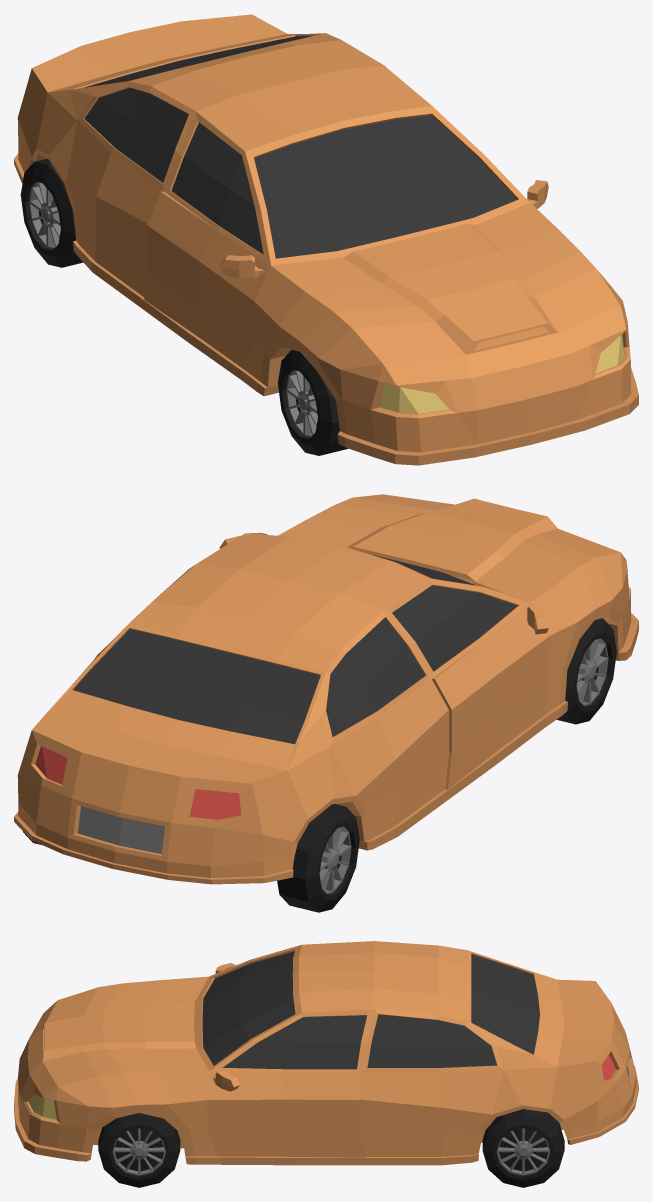
The model's file is SportsCar_Car.fbx.
3 renders of one model, top to bottom at view 1: azimuth 30°, elevation 25°; view 2: azimuth 150°, elevation 25°; view 3: azimuth 270°, elevation 25°, orthographic. The views are drawn at different scales.
Parts seen in each view (by area): view 1: SportsCar, SportsCar_FrontRightWheel, SportsCar_BackRightWheel; view 2: SportsCar, SportsCar_BackRightWheel, SportsCar_FrontRightWheel; view 3: SportsCar, SportsCar_BackLeftWheel, SportsCar_FrontLeftWheel.
Part boxes in pixels (x1,y1,x2,y2): SportsCar: (14, 14, 638, 465); SportsCar_FrontRightWheel: (278, 349, 348, 455); SportsCar_BackRightWheel: (20, 159, 82, 267); SportsCar: (14, 494, 638, 884); SportsCar_BackRightWheel: (277, 804, 359, 912); SportsCar_FrontRightWheel: (556, 618, 616, 724); SportsCar: (14, 941, 638, 1165); SportsCar_BackLeftWheel: (482, 1109, 564, 1187); SportsCar_FrontLeftWheel: (98, 1113, 180, 1187).
Size of the model in its own units: 180 by 116 by 397.
